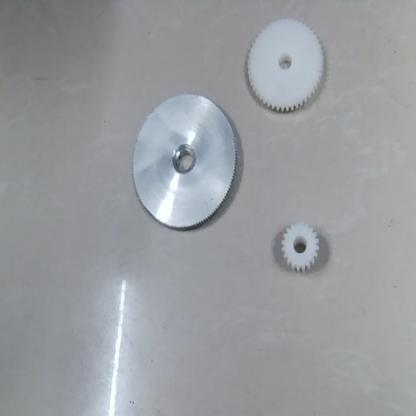FOD: (130, 93, 237, 234), (245, 16, 327, 114), (278, 221, 321, 275)
